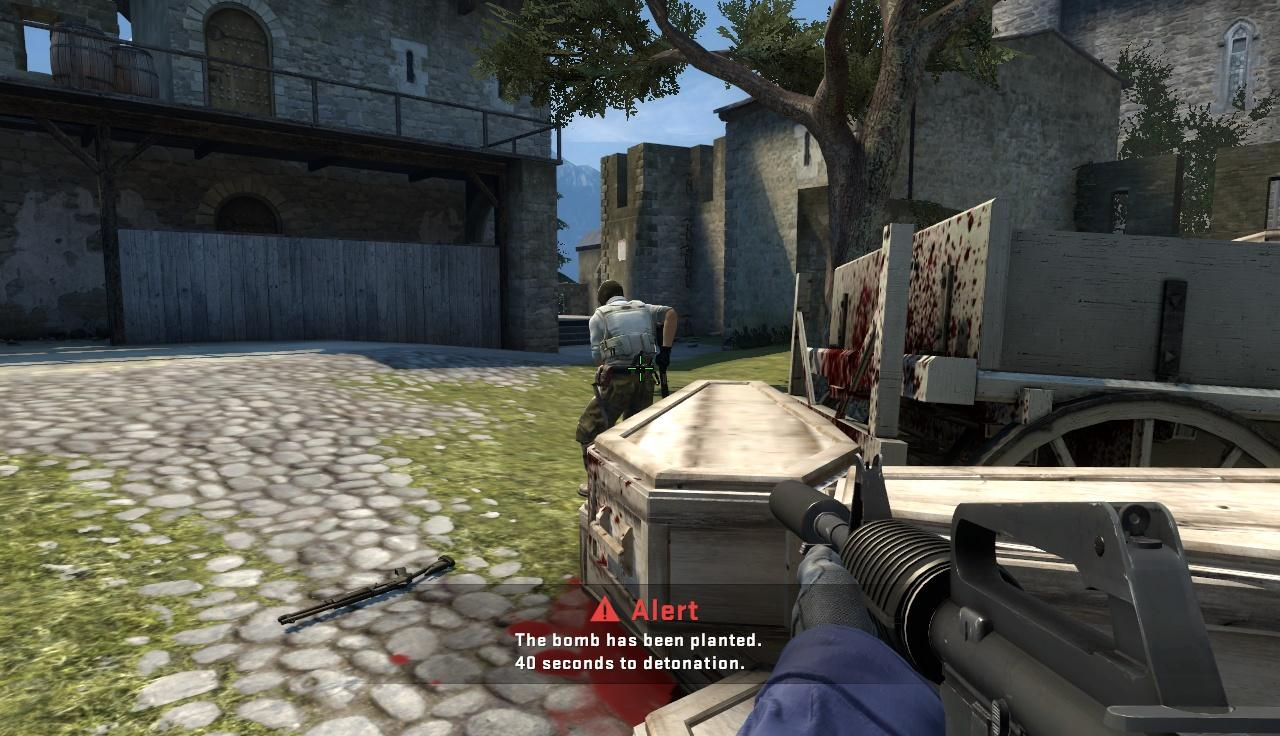rifle: (776, 447, 1280, 731)
tt: (585, 281, 664, 439)
tthead: (597, 280, 625, 309)
